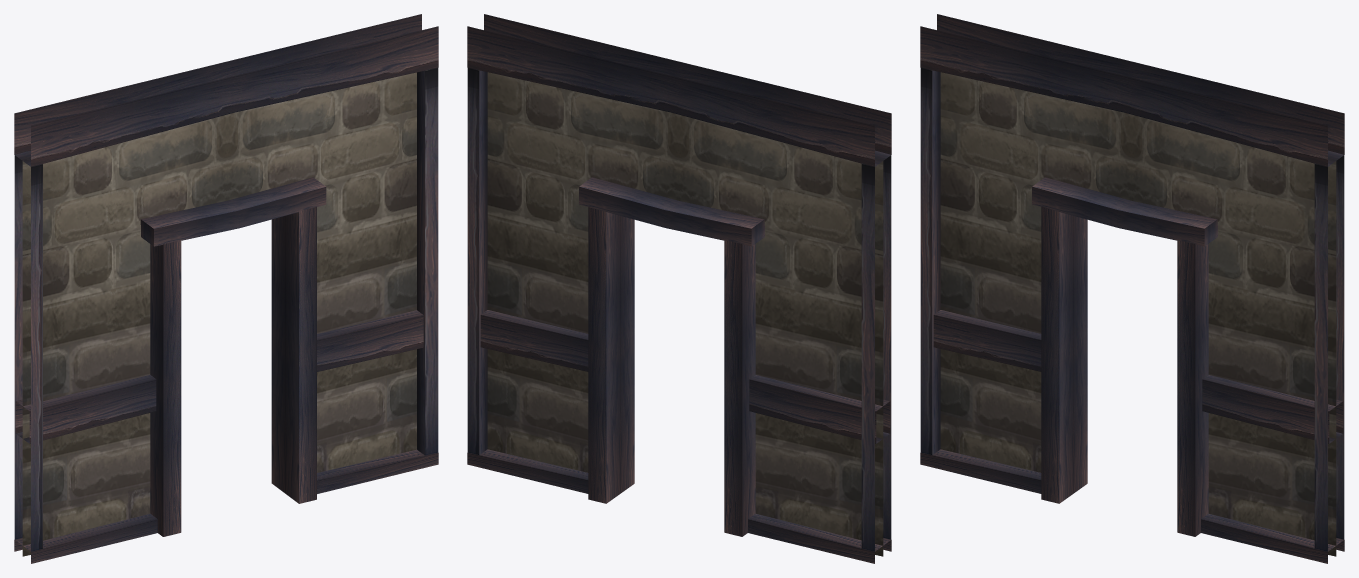
The model's file is WallDoor_2sided_detailed_2ndFloor_Bricks.fbx.
The picture shows the model from 3 angles, left to right: view 1: azimuth 30°, elevation 25°; view 2: azimuth 150°, elevation 25°; view 3: azimuth 330°, elevation 25°; orthographic projection.
Parts seen in each view (by area): view 1: WallDoor_2sided_detailed_2ndFloor_Bricks; view 2: WallDoor_2sided_detailed_2ndFloor_Bricks; view 3: WallDoor_2sided_detailed_2ndFloor_Bricks.
Boxes of the visible parts, box(x1,y1,x2,y2) form: WallDoor_2sided_detailed_2ndFloor_Bricks: box(14, 14, 438, 563); WallDoor_2sided_detailed_2ndFloor_Bricks: box(467, 14, 891, 563); WallDoor_2sided_detailed_2ndFloor_Bricks: box(920, 14, 1344, 563).
Size of the model in its own units: 0.6266 by 0.646 by 0.0741.
